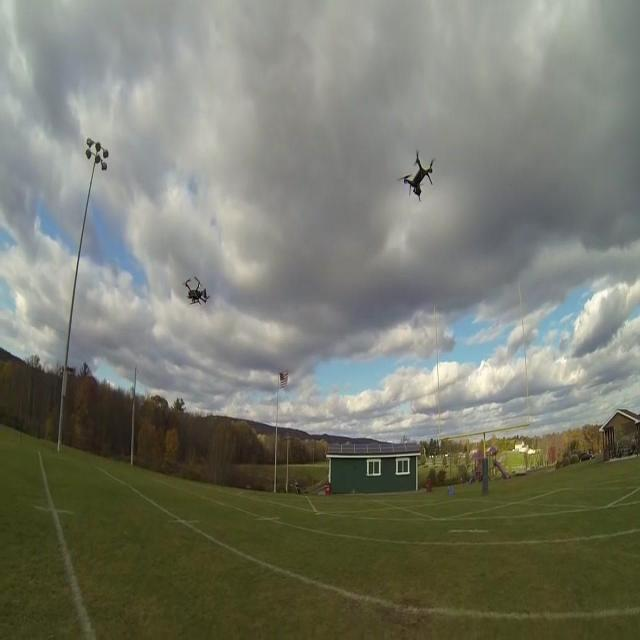UAV: (397, 149, 435, 202), (182, 275, 210, 305)
